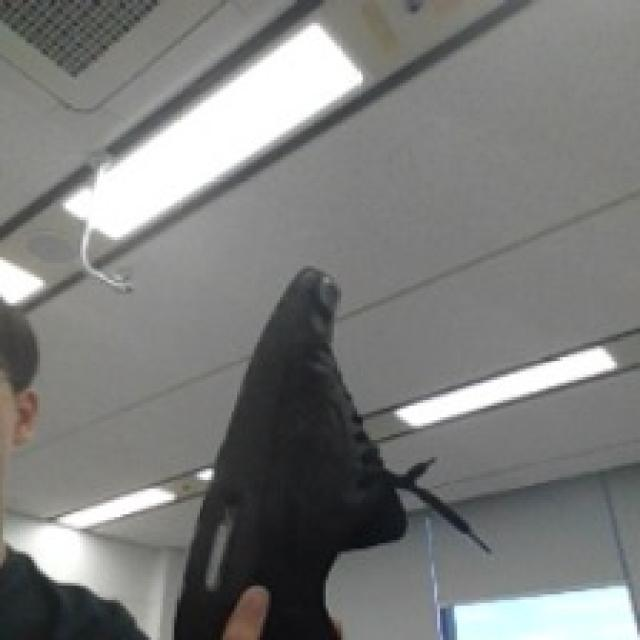shoe: (160, 229, 420, 640)
